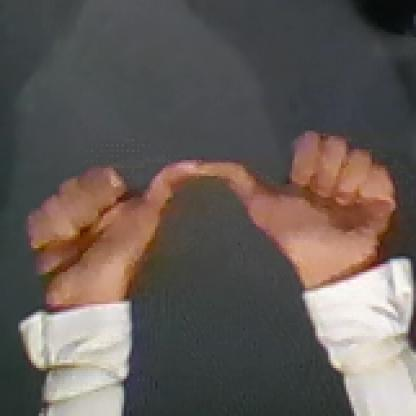A: (11, 151, 413, 306)
